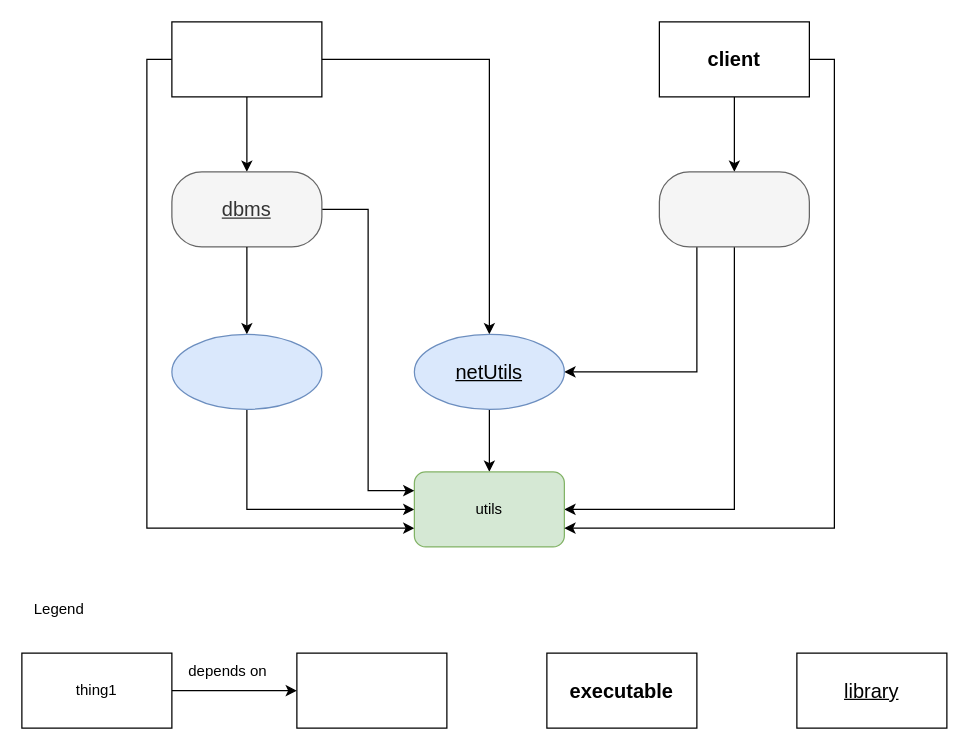
The diagram is 969 pixels wide and 750 high, and some of its shapes have lost their labels. The shapes that lost their labels are listed below. From the top down, each one's centre as x and y in pixels, then its label:
At [246,59]: "server".
At [733,209]: "keys".
At [246,371]: "dbmsUtils".
At [371,690]: "thing2".
